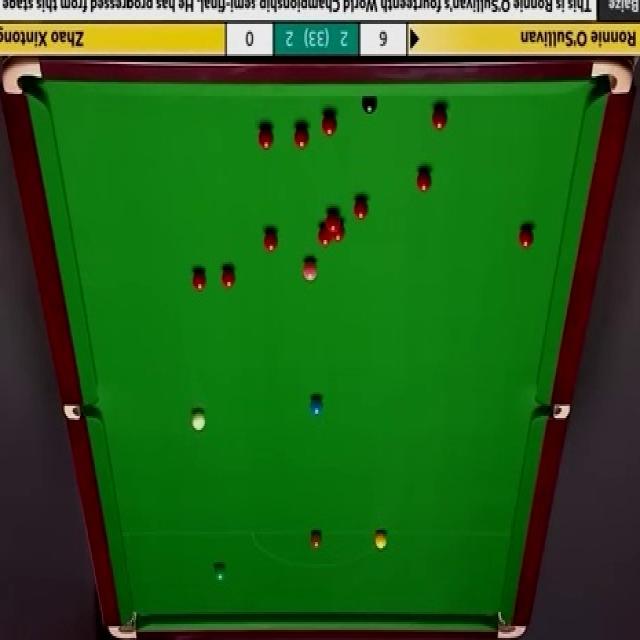black-ball: (360, 94, 378, 115)
blue-ball: (309, 393, 323, 418)
brown-ball: (310, 532, 322, 552)
green-ball: (214, 562, 228, 584)
pink-ball: (301, 256, 318, 281)
red-ball: (264, 229, 282, 255), (518, 224, 535, 251), (432, 105, 449, 132), (190, 266, 206, 293), (292, 126, 310, 150), (220, 265, 236, 291), (322, 112, 338, 138), (258, 124, 274, 150), (353, 196, 368, 220), (332, 218, 346, 242), (416, 171, 432, 191), (318, 222, 331, 246), (324, 210, 340, 229)
white-ball: (190, 408, 207, 431)
yellow-ball: (374, 531, 388, 549)
